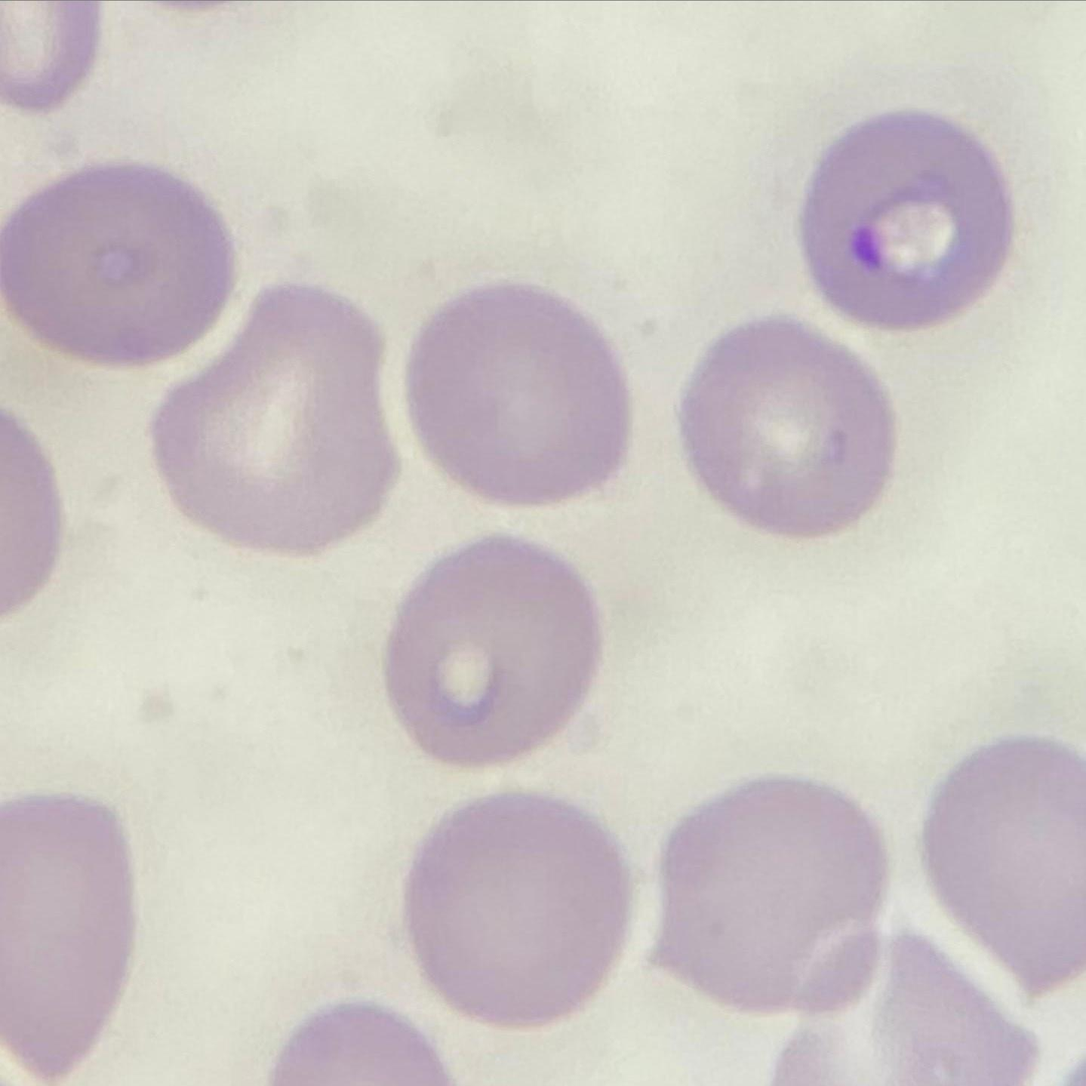Infected: (802, 112, 1015, 332)
Uninfected: (153, 287, 399, 548), (413, 795, 636, 1028), (657, 778, 885, 1002), (408, 281, 630, 503), (387, 534, 601, 762), (0, 163, 239, 362), (685, 317, 893, 538), (932, 736, 1086, 998), (0, 797, 134, 1076)
